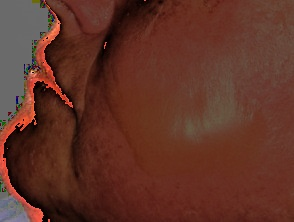SJS-TEN: (0, 102, 294, 222), (83, 39, 274, 190)
